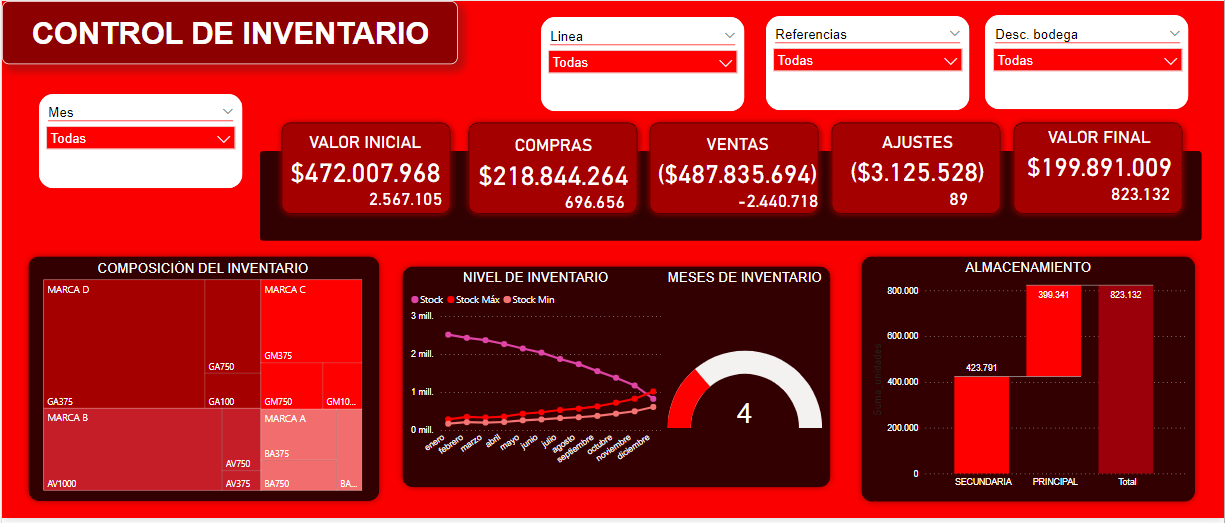

What the dashboard file says about the page in this screenshot:
{"tool":"powerbi","page":{"name":"Dashboard","canvas":[1700,720],"ordinal":0},"visuals":[{"type":"shape","box":[750.5,22.2,282.8,131.1],"z":0,"group":"g1"},{"type":"group","id":"g1","title":"Grupo 1","box":[28.2,19,1640.2,685.7],"z":0},{"type":"textbox","box":[0,0,633.6,88.5],"z":1000},{"type":"shape","box":[1063.3,20.6,282.8,131.1],"z":1000,"group":"g1"},{"type":"shape","box":[1368.3,19,282.8,131.1],"z":2000,"group":"g1"},{"type":"card","title":"VALOR INICIAL","fields":{"Values":["BD1.Suma_costes_netos"]},"box":[389.4,182.8,232.2,78.6],"z":2000},{"type":"shape","box":[52.2,129.6,282.8,131.1],"z":3000,"group":"g1"},{"type":"card","title":"VALOR INICIAL","fields":{"Values":["BD1.Suma_unidades"]},"box":[484.4,246.8,155.4,58.5],"z":3000},{"type":"card","title":"COMPRAS","fields":{"Values":["BD1.Suma_costes_netos"]},"box":[651.5,186.1,232.2,78.6],"z":4000},{"type":"shape","box":[358.7,208.6,1309.8,124.8],"z":4000,"group":"g1"},{"type":"card","title":"VALOR INICIAL","fields":{"Values":["BD1.Suma_unidades"]},"box":[746.5,250.1,155.4,58.5],"z":5000},{"type":"shape","box":[28.2,346.3,506.3,358.3],"z":5000,"group":"g1"},{"type":"card","title":"VENTAS","fields":{"Values":["BD1.Suma_costes_netos"]},"box":[906.9,184.9,232.2,78.6],"z":6000},{"type":"shape","box":[1186.6,346,481.9,358.6],"z":6000,"group":"g1"},{"type":"card","title":"VALOR INICIAL","fields":{"Values":["BD1.Suma_unidades"]},"box":[1001.9,248.9,155.4,58.5],"z":7000},{"type":"shape","box":[548.3,360.3,613,325.5],"z":7000,"group":"g1"},{"type":"shape","box":[380.8,159.6,252.8,145.4],"z":8000,"group":"g1"},{"type":"card","title":"AJUSTES","fields":{"Values":["BD1.Suma_costes_netos"]},"box":[1157.8,181.6,232.2,78.6],"z":8000},{"type":"shape","box":[639.9,159.6,252.8,145.4],"z":9000,"group":"g1"},{"type":"card","title":"VALOR INICIAL","fields":{"Values":["BD1.Suma_unidades"]},"box":[1252.9,245.5,155.4,58.5],"z":9000},{"type":"shape","box":[892.7,159.6,252.8,145.4],"z":10000,"group":"g1"},{"type":"card","title":"VALOR FINAL","fields":{"Values":["BD1.Suma_costes_netos"]},"box":[1411,175.9,232.2,78.6],"z":10000},{"type":"shape","box":[1145.5,159.6,252.8,145.4],"z":11000,"group":"g1"},{"type":"card","title":"VALOR INICIAL","fields":{"Values":["BD1.Suma_unidades"]},"box":[1506,239.9,155.4,58.5],"z":11000},{"type":"shape","box":[1398.3,159.6,252.8,145.4],"z":12000,"group":"g1"},{"type":"treemap","title":"COMPOSICIÓN DEL INVENTARIO","fields":{"Group":["BD1.LINEA"],"Details":["BD1.Desc. item"],"Values":["BD1.Suma_unidades"]},"box":[53,361.9,453.3,323.5],"z":12000},{"type":"waterfallChart","title":"ALMACENAMIENTO","fields":{"Category":["BD1.Desc. bodega"],"Y":["BD1.Suma_unidades"]},"box":[1204.6,360.1,446,325.4],"z":13000},{"type":"lineChart","title":"NIVEL DE INVENTARIO","fields":{"Category":["Resumen.Mes_texto"],"Y":["BD1.Acumulado_unidade","BD1.Inventario_maximo","BD1.Inventario_minimo"]},"box":[563,374.7,358.3,290.6],"z":13001},{"type":"gauge","title":"MESES DE INVENTARIO","fields":{"Y":["BD1.Inventario_meses"]},"box":[921.3,374.7,224.8,310.8],"z":13002},{"type":"slicer","fields":{"Values":["Id_fecha.Date.Variación.Jerarquía de fechas.Mes"]},"box":[52.1,139,282.8,110.6],"z":13003},{"type":"slicer","fields":{"Values":["BD1.LINEA"]},"box":[750.5,33.2,282.8,110.6],"z":13004},{"type":"slicer","fields":{"Values":["BD1.Desc. clase"]},"box":[1063.3,30,282.8,110.6],"z":13005},{"type":"slicer","fields":{"Values":["BD1.Desc. bodega"]},"box":[1368.2,30,282.8,110.6],"z":13006}]}

Visuals, with their boxes in screenshot pixels (x1, y1, x2, y2), scaled from the page's 1700x720 canvas onto the 1227x523 screenshot:
shape: (542,16,746,111)
"Grupo 1" group: (20,14,1204,512)
textbox: (0,0,457,64)
shape: (767,15,972,110)
shape: (988,14,1192,109)
"VALOR INICIAL" card: (281,133,449,190)
shape: (38,94,242,189)
"VALOR INICIAL" card: (350,179,462,222)
"COMPRAS" card: (470,135,638,192)
shape: (259,152,1204,242)
"VALOR INICIAL" card: (539,182,651,224)
shape: (20,252,386,512)
"VENTAS" card: (655,134,822,191)
shape: (856,251,1204,512)
"VALOR INICIAL" card: (723,181,835,223)
shape: (396,262,838,498)
shape: (275,116,457,222)
"AJUSTES" card: (836,132,1003,189)
shape: (462,116,644,222)
"VALOR INICIAL" card: (904,178,1016,221)
shape: (644,116,827,222)
"VALOR FINAL" card: (1018,128,1186,185)
shape: (827,116,1009,222)
"VALOR INICIAL" card: (1087,174,1199,217)
shape: (1009,116,1192,222)
"COMPOSICIÓN DEL INVENTARIO" treemap: (38,263,365,498)
"ALMACENAMIENTO" waterfallChart: (869,262,1191,498)
"NIVEL DE INVENTARIO" lineChart: (406,272,665,483)
"MESES DE INVENTARIO" gauge: (665,272,827,498)
slicer - Id_fecha.Date.Variación.Jerarquía de fechas.Mes: (38,101,242,181)
slicer - BD1.LINEA: (542,24,746,104)
slicer - BD1.Desc. clase: (767,22,972,102)
slicer - BD1.Desc. bodega: (988,22,1192,102)
